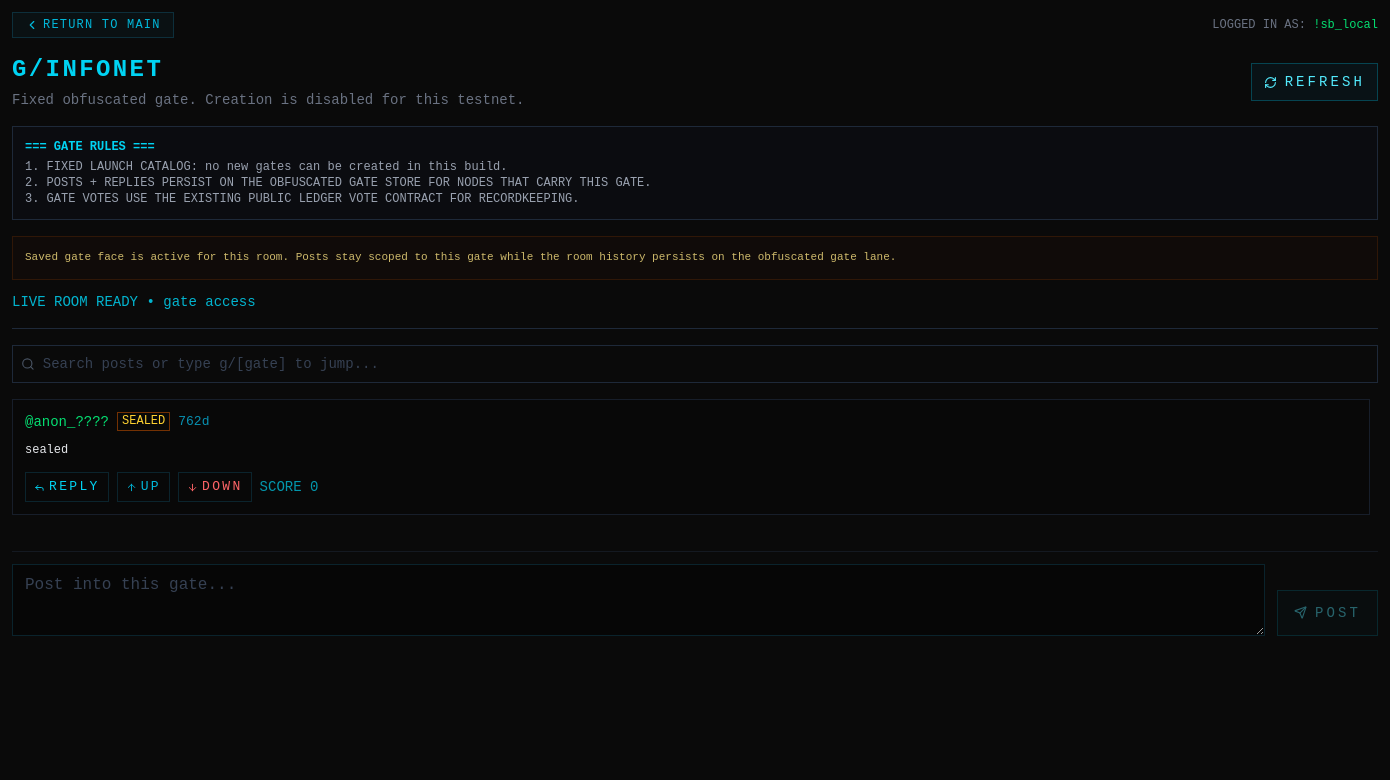
Test: GateView compat-decrypt UX › shows a friendly room message instead of a raw gate-envelope post failure
Expected: the text "sealed" is shown, [25,443,68,457]
Type "hello" into the text box with placeholder "Post into this gate..." at {"x": 639, "y": 600}, box [12,564,1265,636]
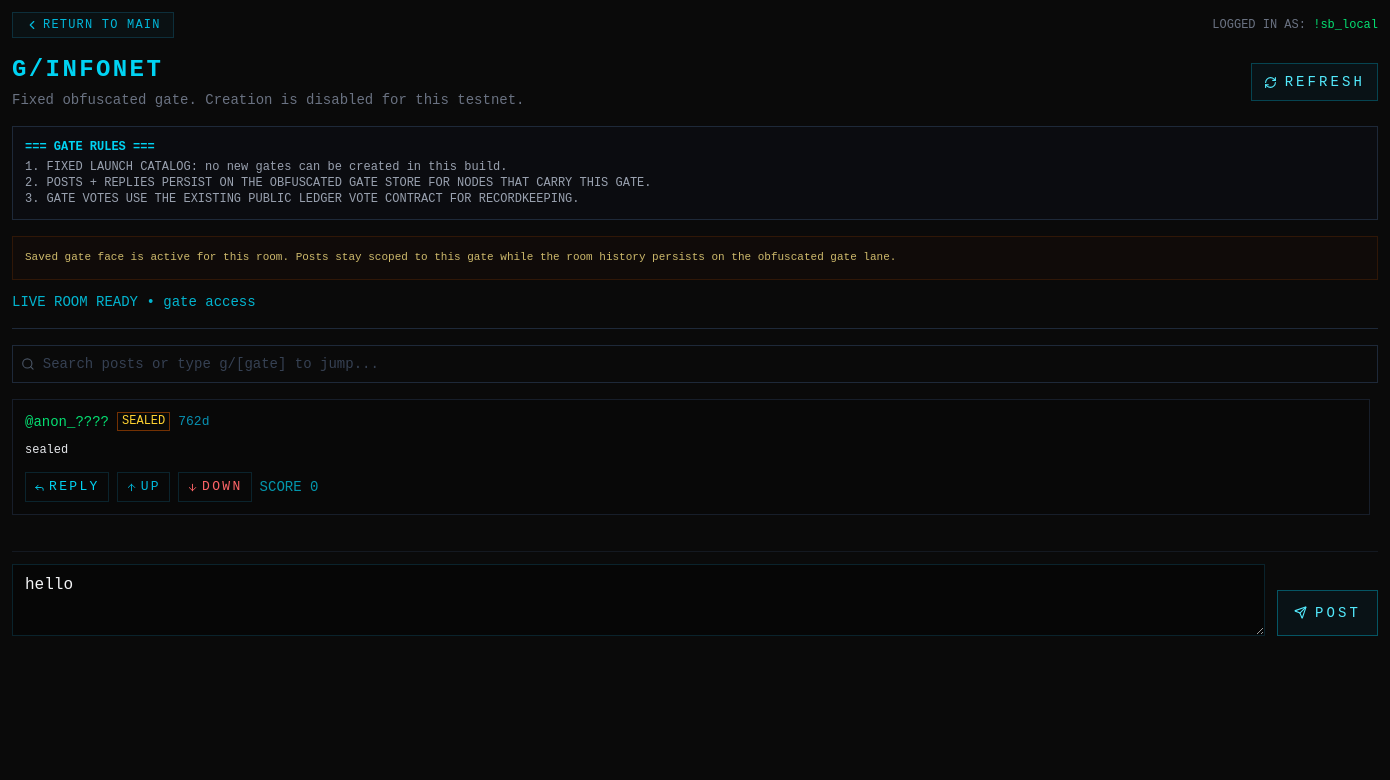
Click the button "Post" at {"x": 1328, "y": 613}, box [1277,590,1378,636]
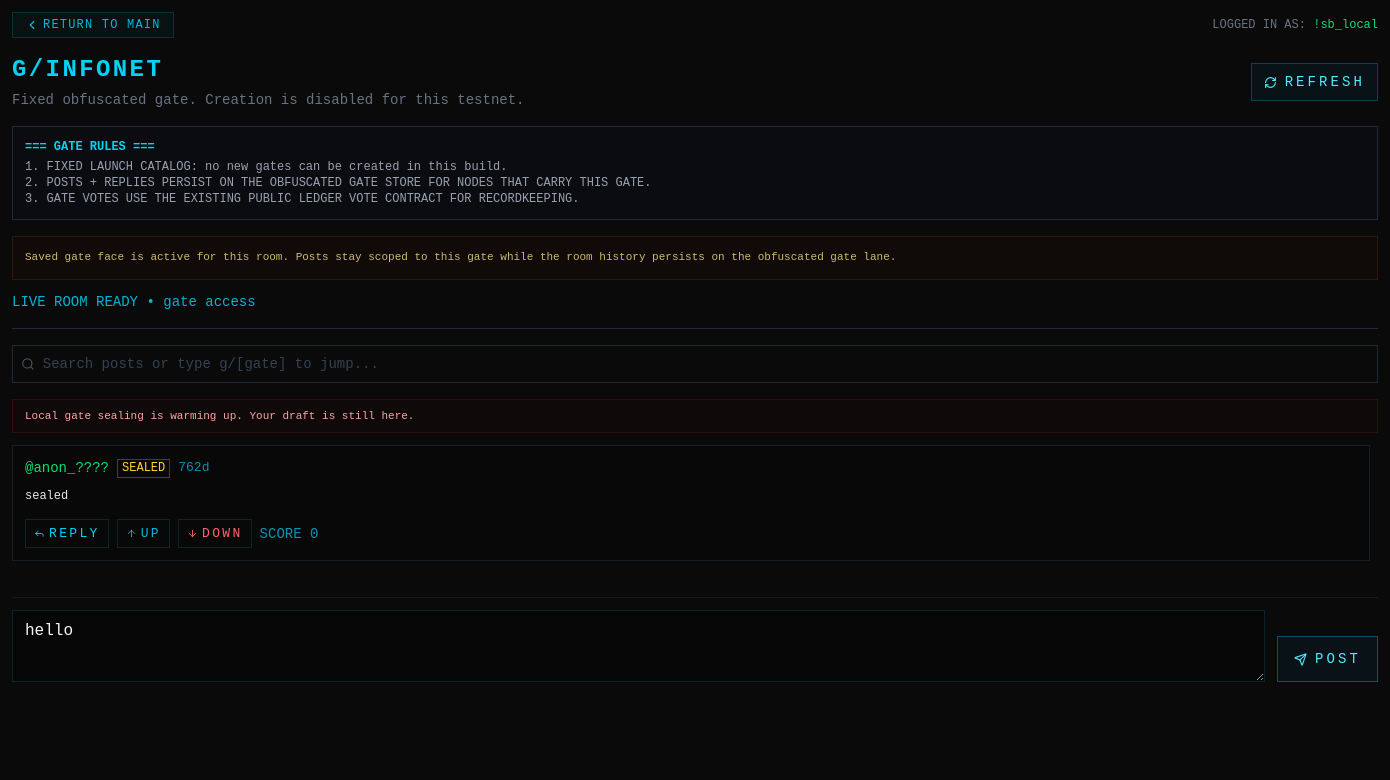
Expected: the text "Local gate sealing is warming up. Your draft is still here." is shown, [12,399,1378,433]
